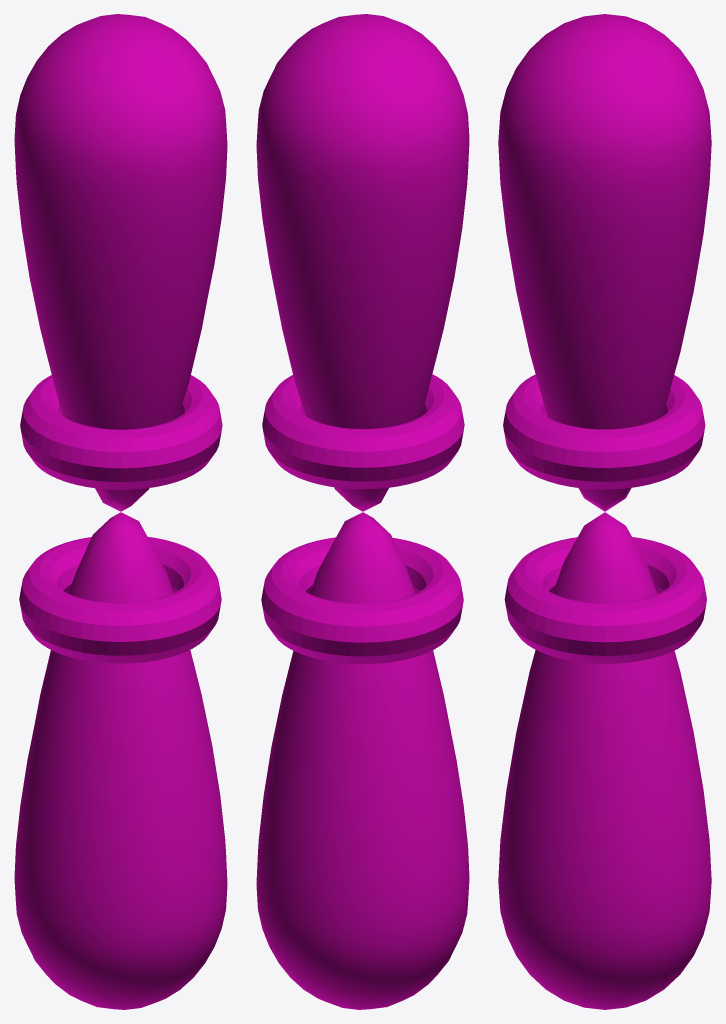
3 views of the same model, side by side, from view 1: azimuth 30°, elevation 25°; view 2: azimuth 150°, elevation 25°; view 3: azimuth 270°, elevation 25° (orthographic).
Visible parts, largest first — view 1: 4fx.002, Torus.008, Torus.007; view 2: 4fx.002, Torus.008, Torus.007; view 3: 4fx.002, Torus.008, Torus.007.
Part boxes in pixels (x1,y1,x2,y2): 4fx.002: (14, 14, 227, 1009); Torus.008: (19, 537, 221, 663); Torus.007: (20, 375, 222, 489); 4fx.002: (256, 14, 469, 1009); Torus.008: (261, 537, 463, 664); Torus.007: (262, 374, 464, 489); 4fx.002: (498, 14, 711, 1009); Torus.008: (504, 537, 706, 663); Torus.007: (503, 374, 705, 489).
Bounding box in the file's own units: 54 × 273 × 54.
